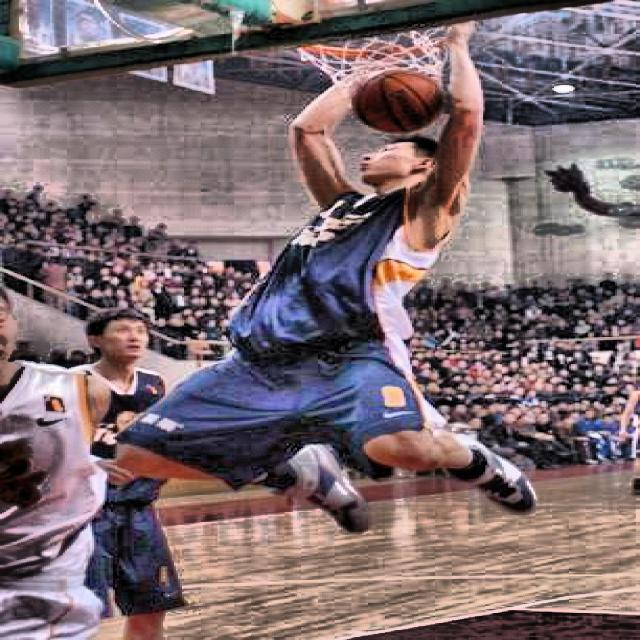board: (354, 71, 442, 131)
